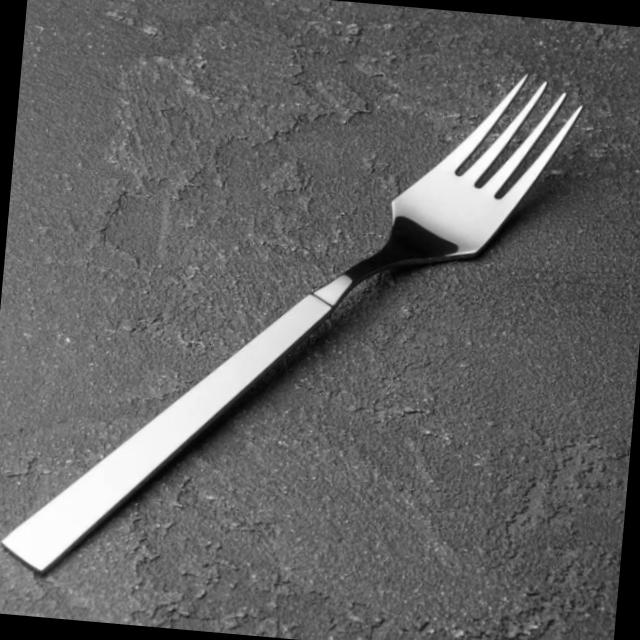fork: (0, 25, 595, 619)
